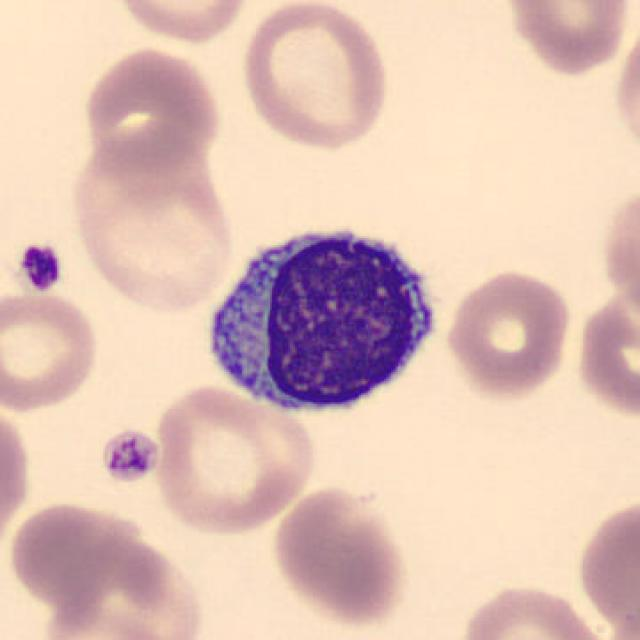Lymphocyte: (196, 208, 450, 425)
Platelets: (98, 426, 162, 486), (14, 240, 66, 294)
RBC: (66, 128, 240, 316), (148, 381, 318, 538), (236, 0, 392, 153), (11, 518, 204, 636), (266, 483, 412, 631), (78, 42, 226, 174), (443, 266, 574, 404), (3, 497, 138, 607), (0, 288, 103, 414), (496, 0, 635, 78), (570, 278, 640, 424), (572, 492, 638, 638), (455, 580, 613, 640), (32, 592, 197, 640), (109, 0, 252, 46), (0, 395, 34, 554), (596, 192, 640, 314), (610, 12, 640, 166)
